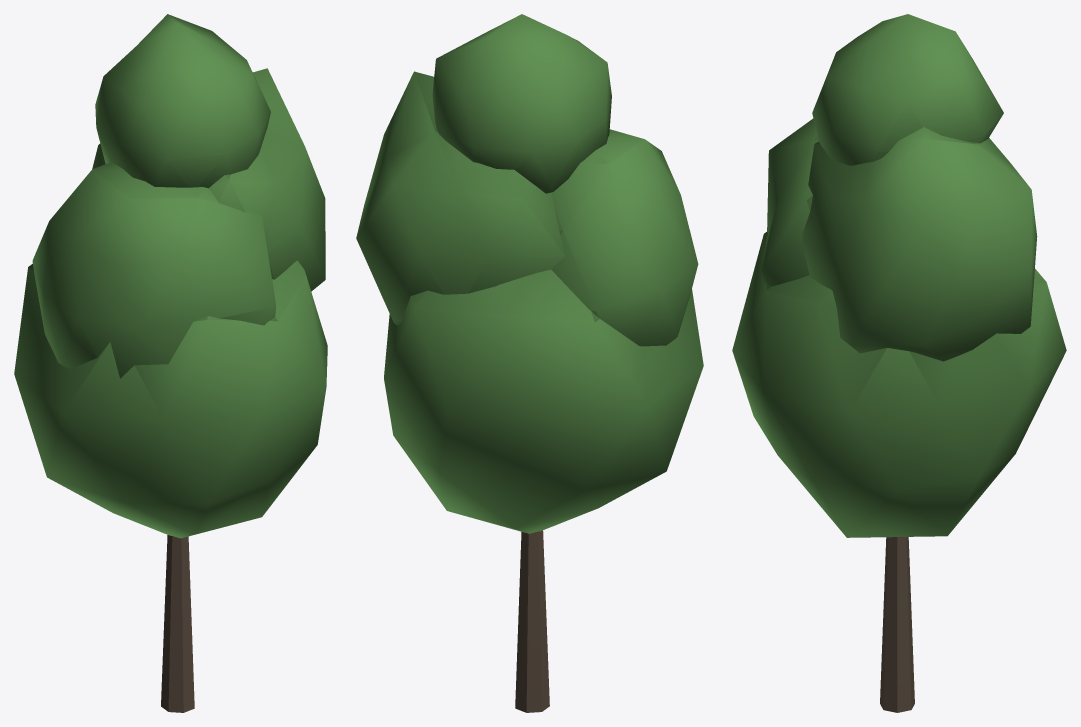
File: arbre1.glb
The picture shows the model from 3 angles, left to right: view 1: azimuth 30°, elevation 25°; view 2: azimuth 150°, elevation 25°; view 3: azimuth 270°, elevation 25°; orthographic projection. The views are drawn at different scales.
Visible parts, largest first — view 1: arbre1; view 2: arbre1; view 3: arbre1.
Part boxes in pixels (x1=…): arbre1: x1=14, y1=14, x2=327, y2=712; arbre1: x1=356, y1=14, x2=703, y2=712; arbre1: x1=732, y1=14, x2=1066, y2=712.
Bounding box in the file's own units: 6.3 × 14.46 × 6.32.
